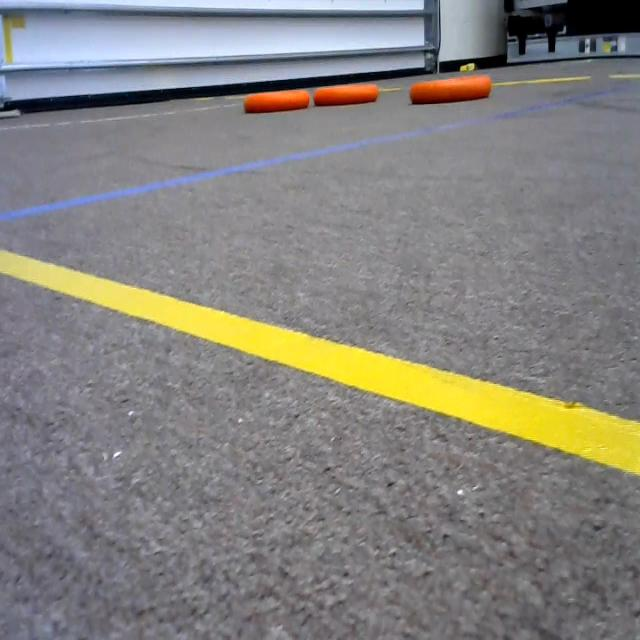note: (410, 68, 491, 112), (310, 69, 384, 111), (238, 82, 308, 118)
